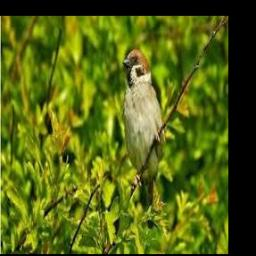Sparrow: (122, 49, 164, 229)
